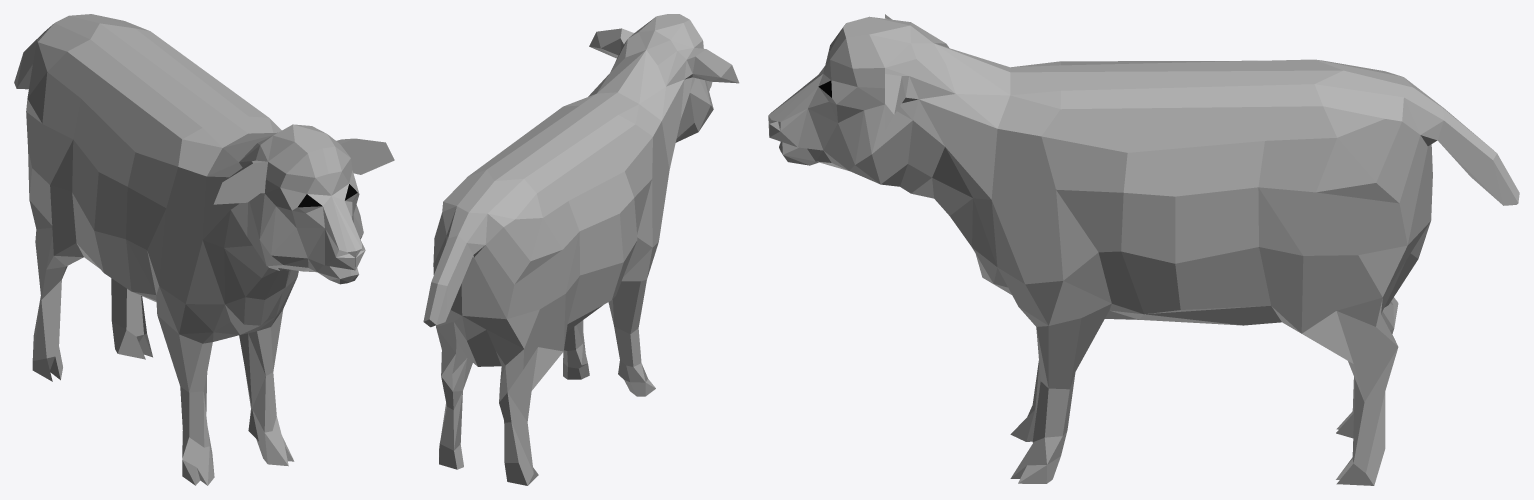
File: Sheep.fbx
The picture shows the model from 3 angles, left to right: view 1: azimuth 30°, elevation 25°; view 2: azimuth 150°, elevation 25°; view 3: azimuth 270°, elevation 25°; orthographic projection. The views are drawn at different scales.
Parts seen in each view (by area): view 1: Sheep; view 2: Sheep; view 3: Sheep.
Part boxes in pixels (x1=…): Sheep: x1=14, y1=14, x2=394, y2=485; Sheep: x1=423, y1=14, x2=739, y2=485; Sheep: x1=768, y1=14, x2=1519, y2=485.
Bounding box in the file's own units: 38.06 × 77.06 × 122.
